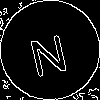N: (25, 25, 71, 78)
